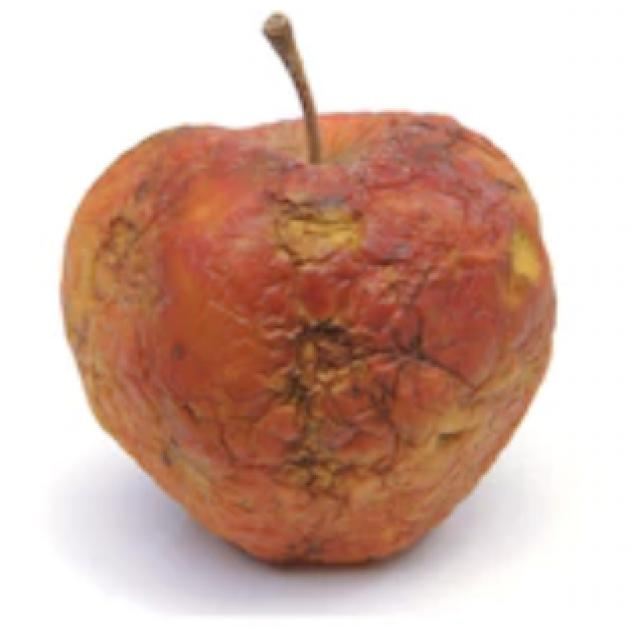rotten_apple: (61, 74, 554, 578)
